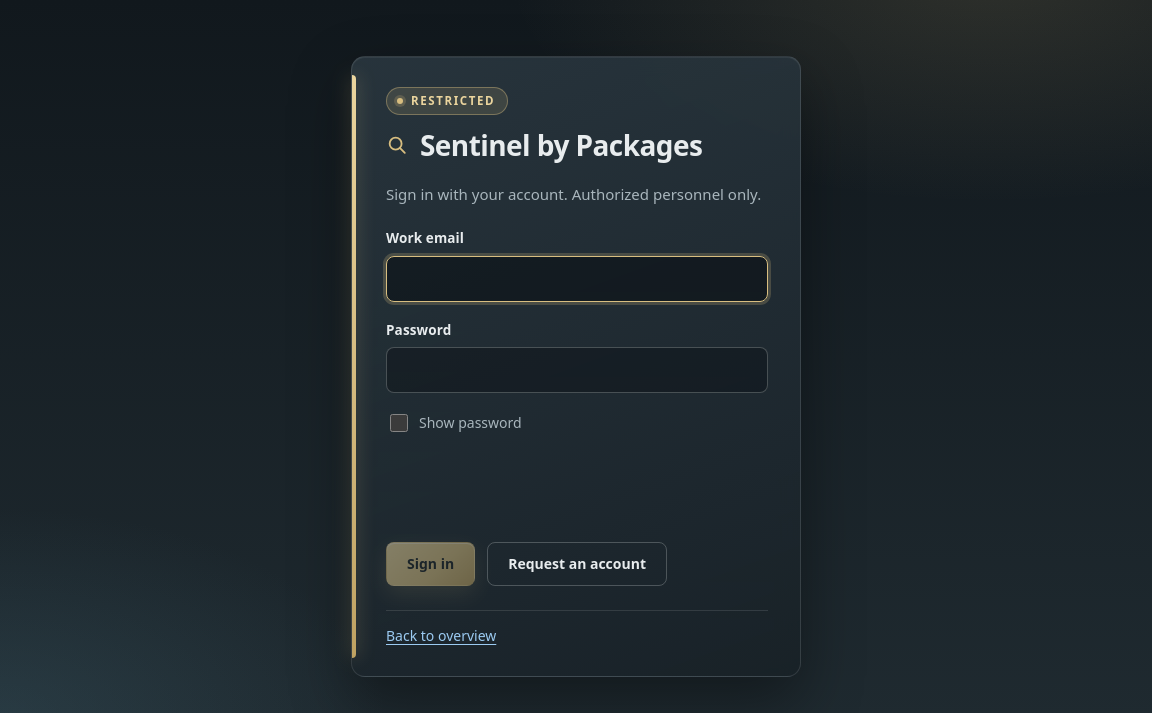
Turnstile on the sign in screen › explains a rejected check in plain words
The width and height of the screenshot is (1152, 713).
Step 1. Type "ana@example.com" into the field labelled "Work email" → (577, 279), box [386,256,768,302]
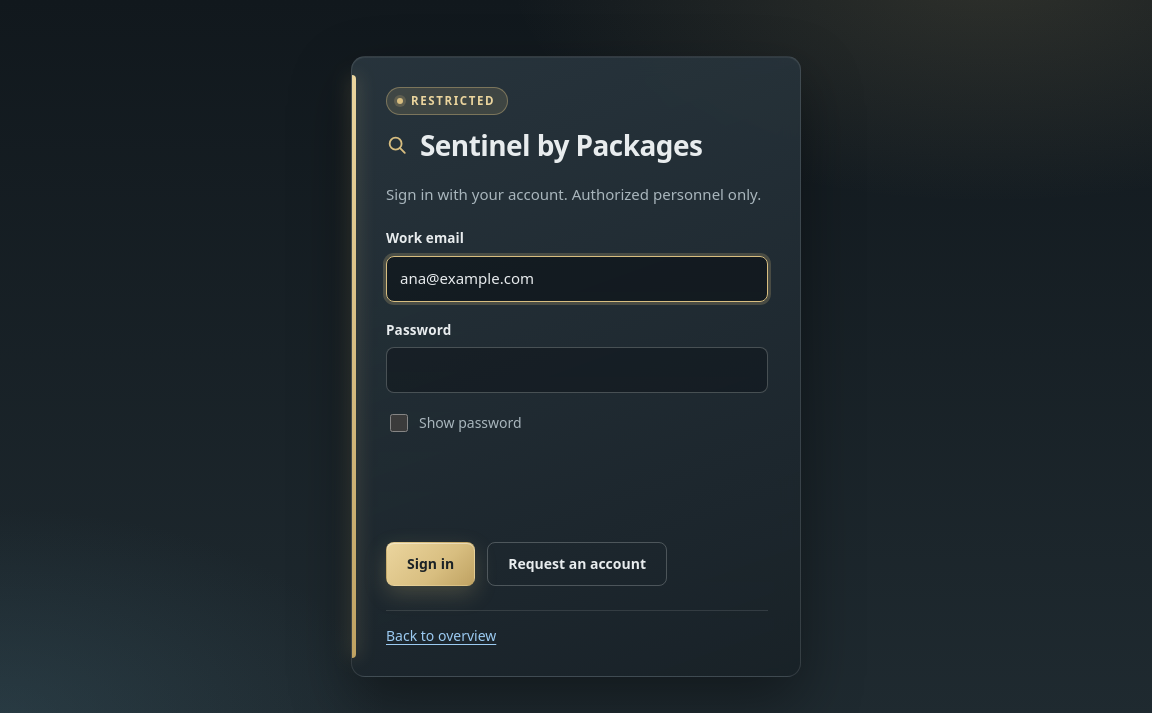
Step 2. Type "correct horse battery" into the password field labelled "Password" → (577, 370), box [386,347,768,393]
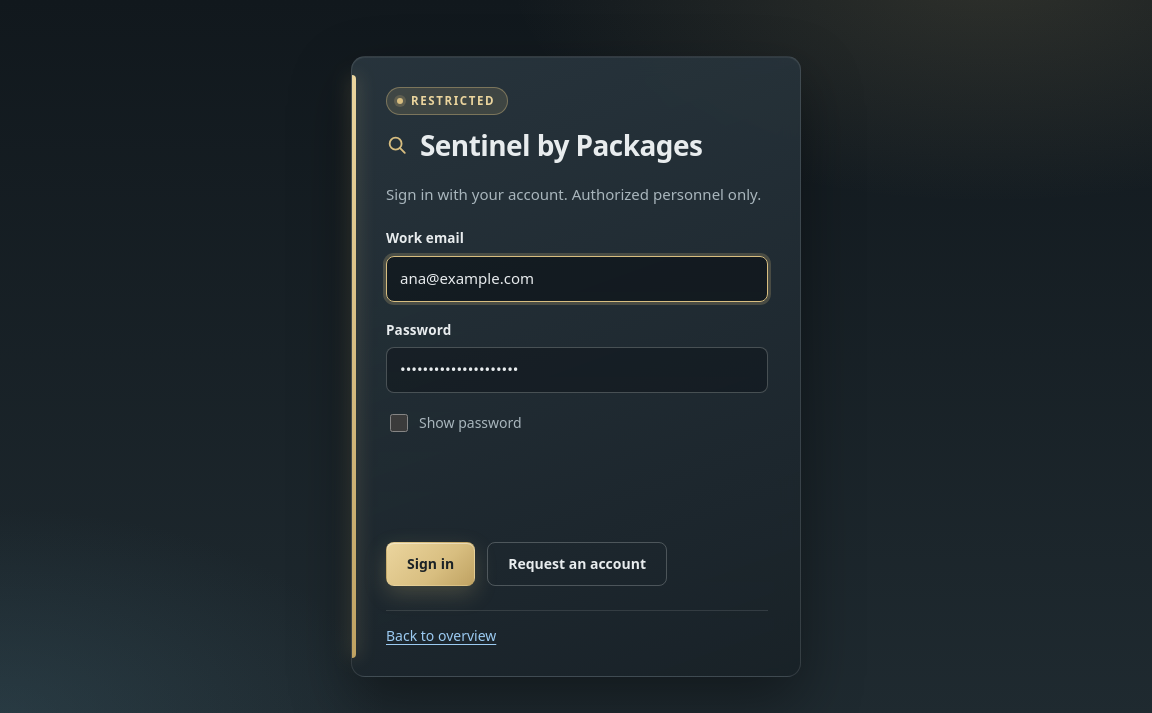
Check: the button "Sign in" is enabled
Step 3. Click the button "Sign in" → (431, 564), box [386,542,475,586]
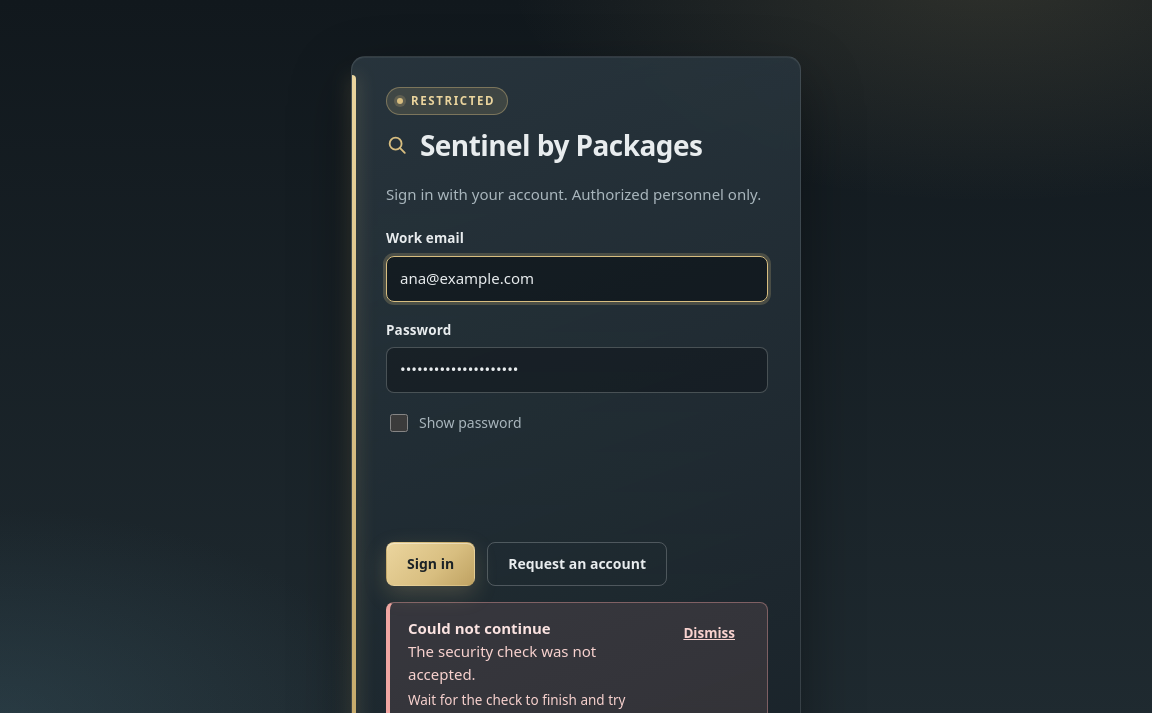
Check: the text "The security check was not accepted." is shown, box [408,641,596,684]
